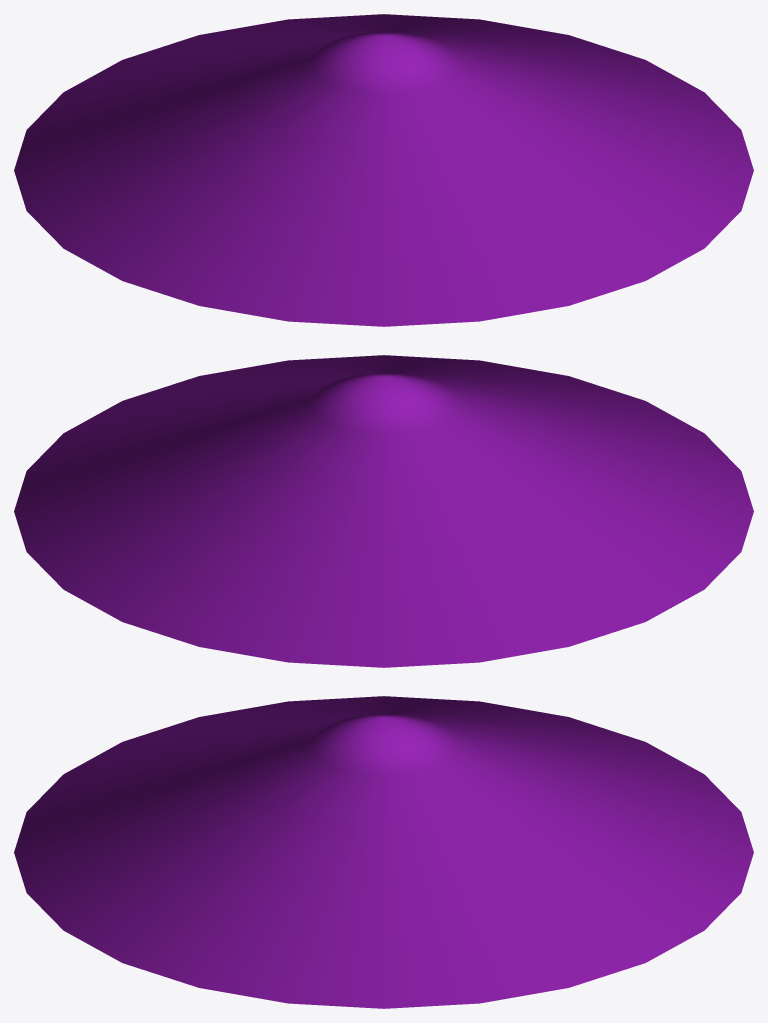
File: Thorn.obj
The picture shows the model from 3 angles, top to bottom: view 1: azimuth 30°, elevation 25°; view 2: azimuth 150°, elevation 25°; view 3: azimuth 270°, elevation 25°; orthographic projection.
Parts seen in each view (by area): view 1: Cone001; view 2: Cone001; view 3: Cone001.
Boxes of the visible parts, x1,y1,x2,y2 form: Cone001: [14, 14, 753, 326]; Cone001: [14, 355, 753, 667]; Cone001: [14, 696, 753, 1008].
Size of the model in its own units: 2.5 by 0.5 by 2.5.
